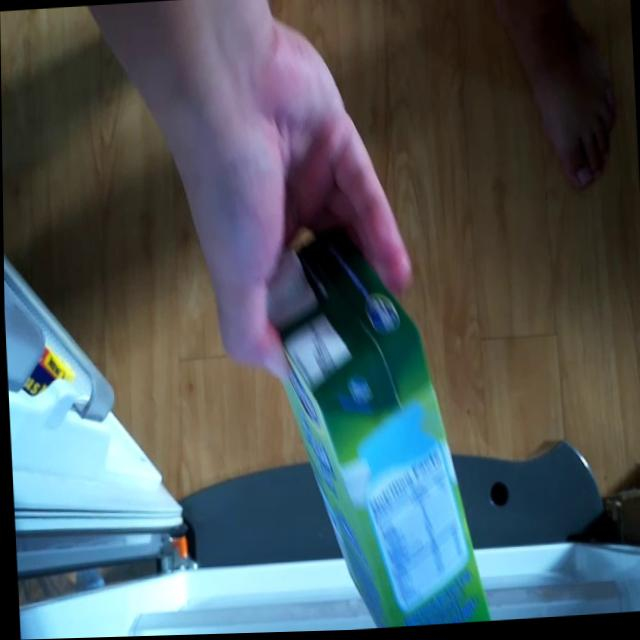milk: (266, 200, 489, 633)
